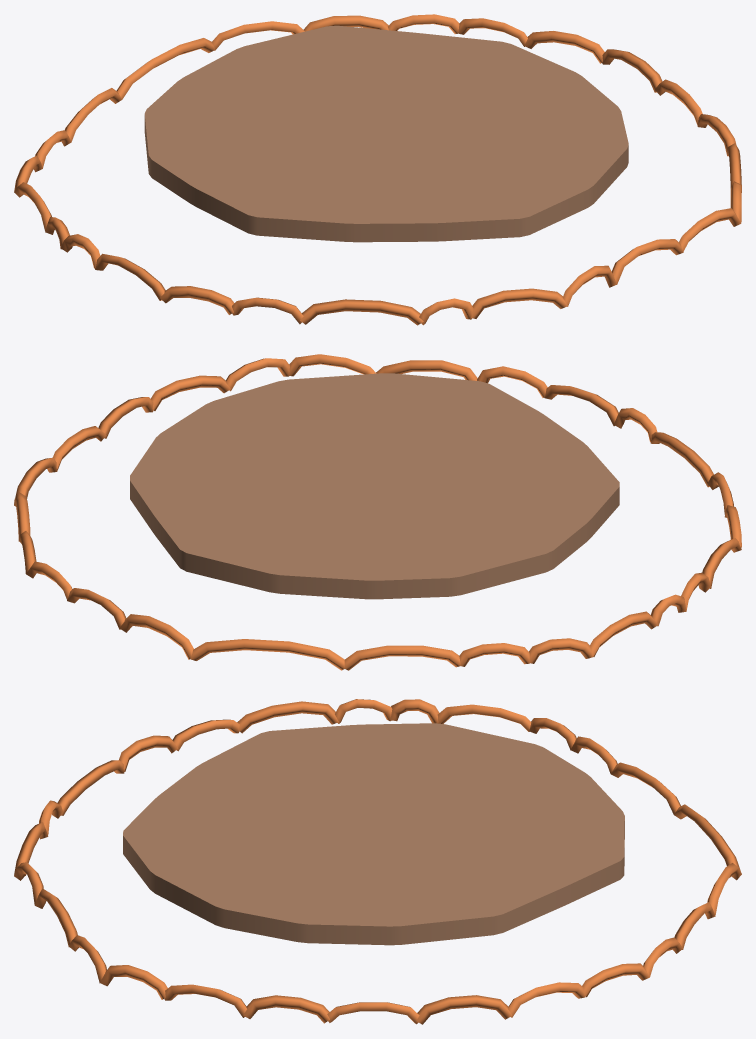
Rendered from poi_ground_decal.fbx.
The picture shows the model from 3 angles, top to bottom: view 1: azimuth 30°, elevation 25°; view 2: azimuth 150°, elevation 25°; view 3: azimuth 270°, elevation 25°; orthographic projection. The views are drawn at different scales.
Visible parts, largest first — view 1: poi_ground_decal_top_v4, poi_ground_decal_stitching; view 2: poi_ground_decal_top_v4, poi_ground_decal_stitching; view 3: poi_ground_decal_top_v4, poi_ground_decal_stitching.
Part boxes in pixels (<box>): poi_ground_decal_top_v4: <box>144,25,628,242</box>; poi_ground_decal_stitching: <box>14,14,741,325</box>; poi_ground_decal_top_v4: <box>130,373,619,599</box>; poi_ground_decal_stitching: <box>14,354,741,670</box>; poi_ground_decal_top_v4: <box>123,723,624,945</box>; poi_ground_decal_stitching: <box>14,699,741,1024</box>.
Size of the model in its own units: 360 by 28.75 by 361.
